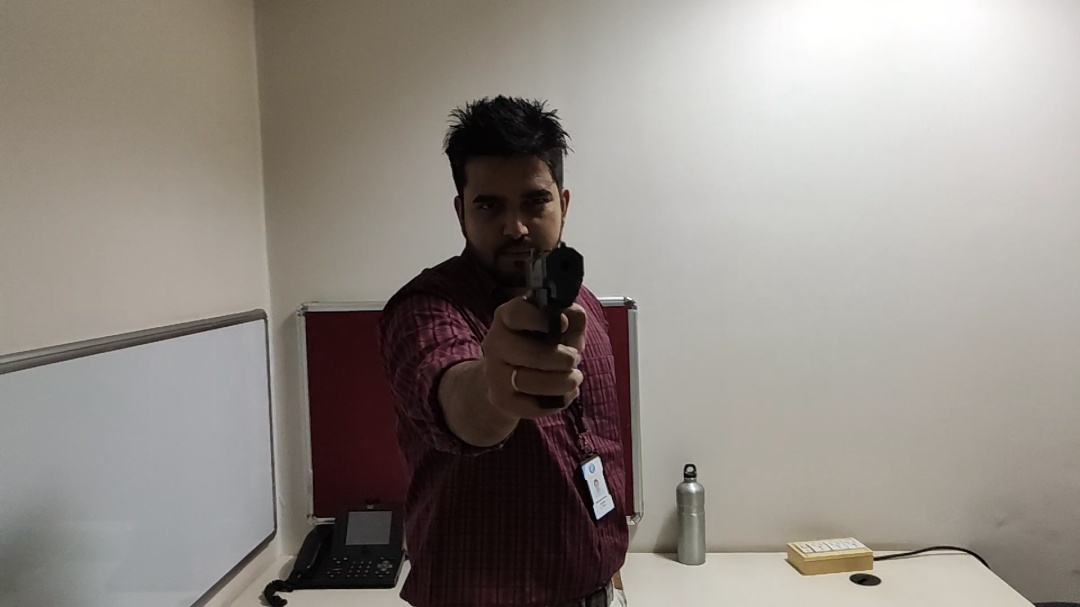gun: (518, 241, 590, 414)
